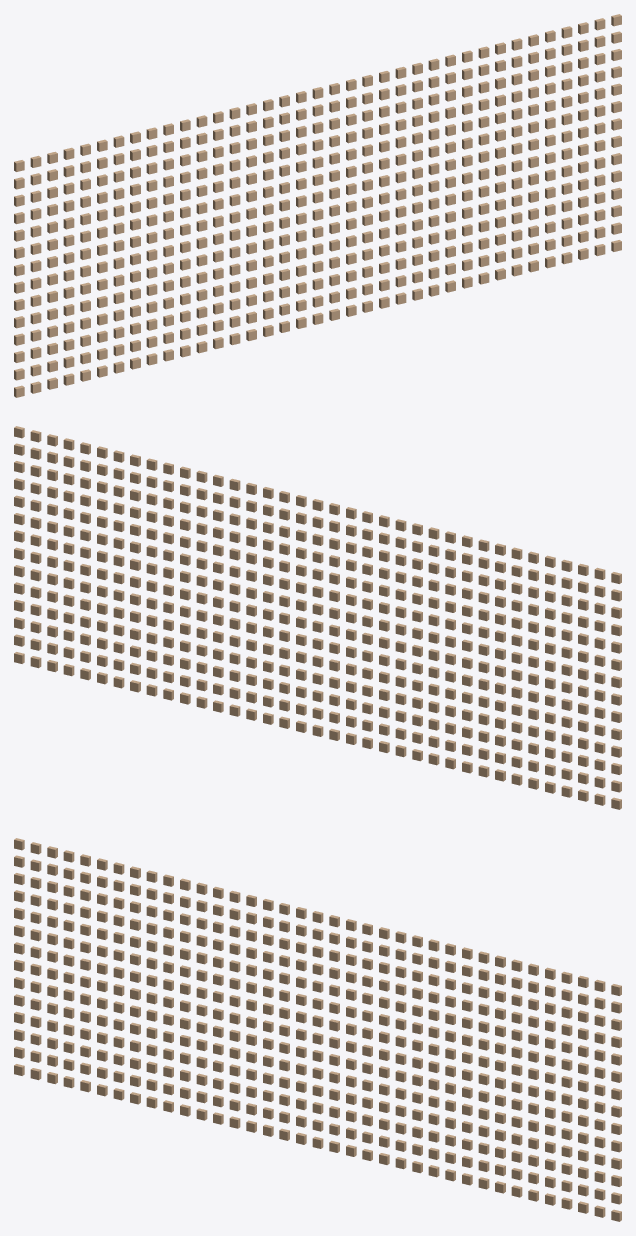
Rendered from vermilion-building-special-0.obj.
3 views of the same model, one above another, from view 1: azimuth 30°, elevation 25°; view 2: azimuth 150°, elevation 25°; view 3: azimuth 330°, elevation 25° (orthographic).
Bounding box in the file's own units: 14.6 × 5.4 × 0.1.
1 material, 1 textured.
